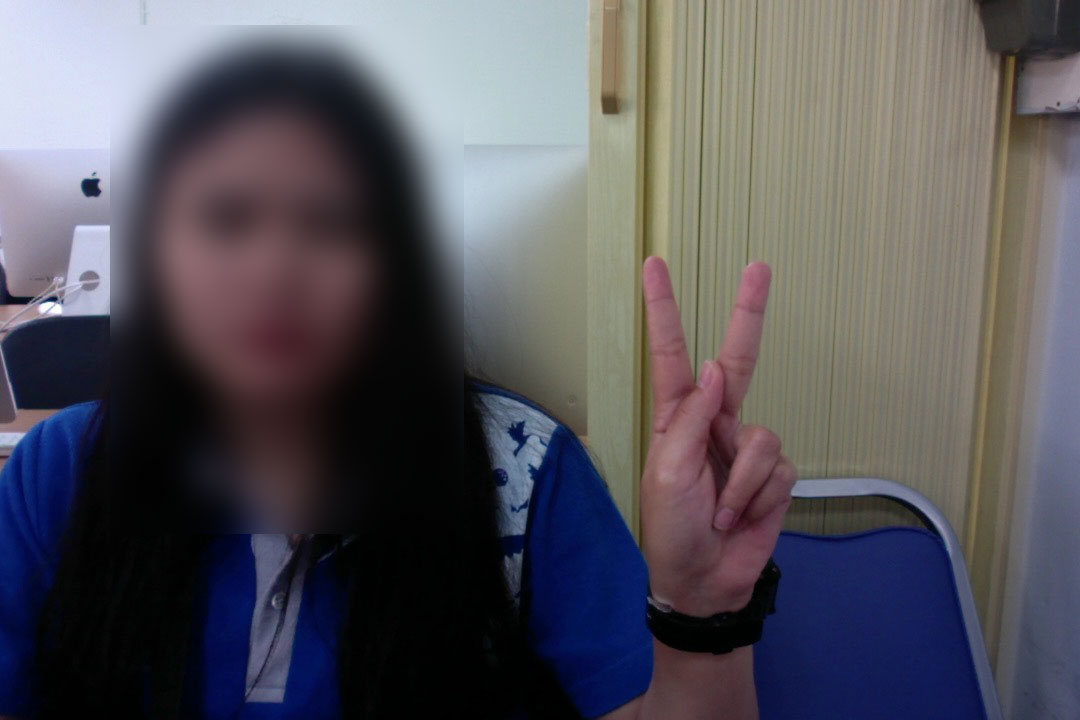ko: (615, 243, 809, 632)
